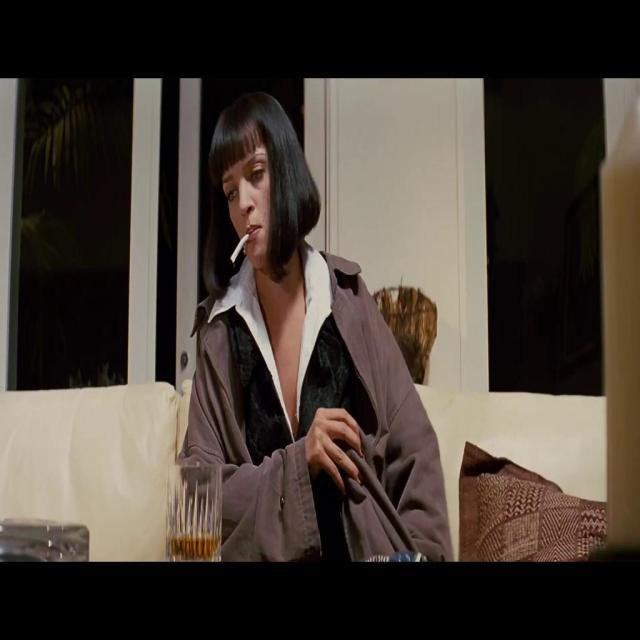smoking: (227, 230, 251, 264)
